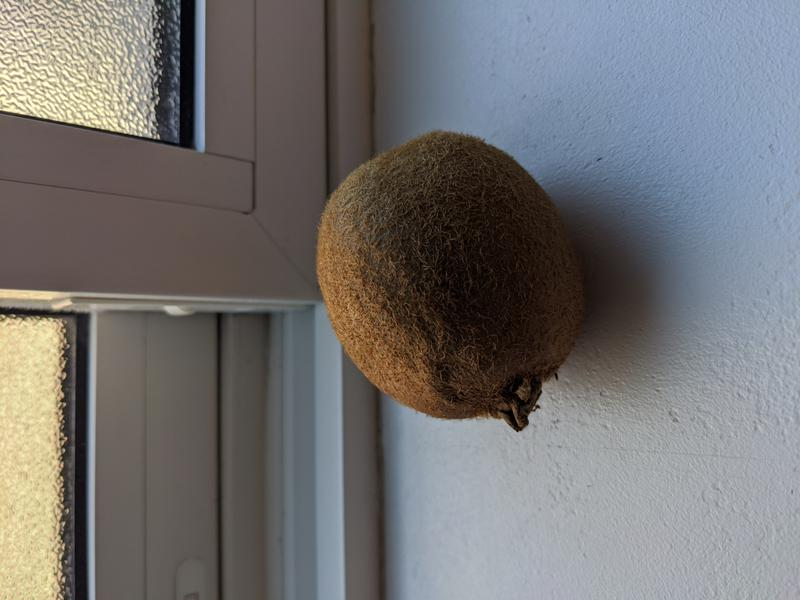kiwi: (311, 128, 592, 431)
